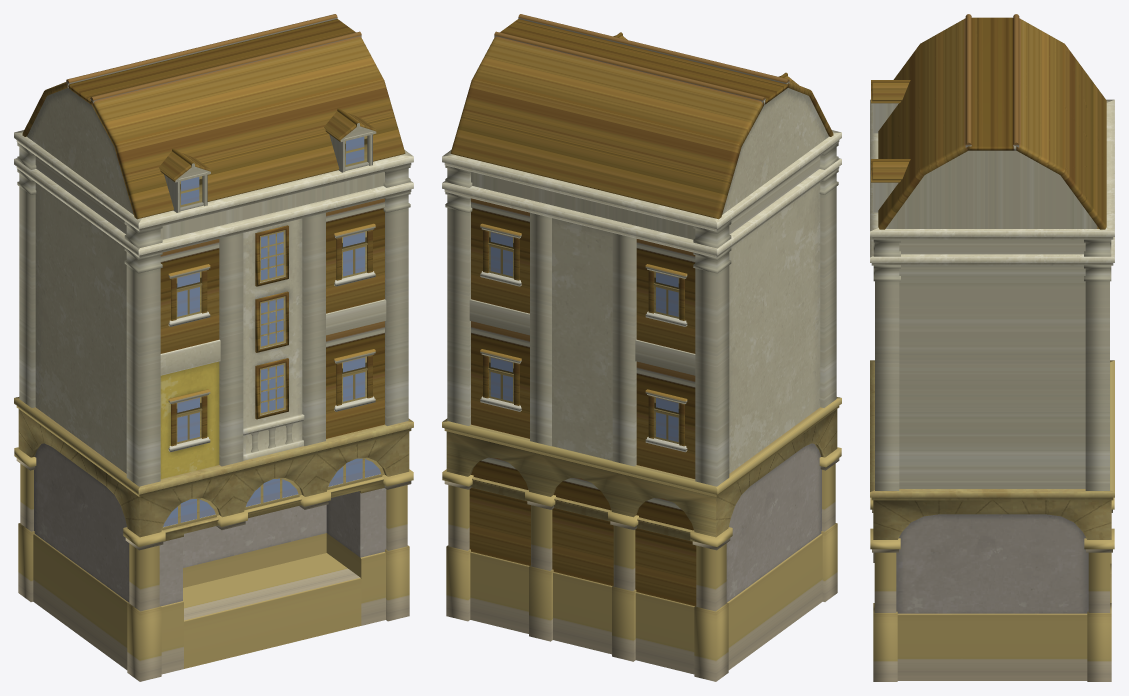
The model's file is objects_un_t06building03_r1s1.gltf.
3 views of the same model, side by side, from view 1: azimuth 30°, elevation 25°; view 2: azimuth 150°, elevation 25°; view 3: azimuth 270°, elevation 25° (orthographic).
Parts seen in each view (by area): view 1: um_objects_un_t06building03_r1s1_model_lod0Shape:objects_un_ (×3); view 2: um_objects_un_t06building03_r1s1_model_lod0Shape:objects_un_ (×3); view 3: um_objects_un_t06building03_r1s1_model_lod0Shape:objects_un_ (×2).
Boxes of the visible parts, <box> form: um_objects_un_t06building03_r1s1_model_lod0Shape:objects_un_ (×3): <box>14,14,413,681</box>; um_objects_un_t06building03_r1s1_model_lod0Shape:objects_un_ (×3): <box>442,14,841,681</box>; um_objects_un_t06building03_r1s1_model_lod0Shape:objects_un_ (×2): <box>870,14,1114,681</box>.
Size of what is drawn, in the model's own units: 10.86 by 20.7 by 8.52.
Materials: 4 (3 with a texture image).
